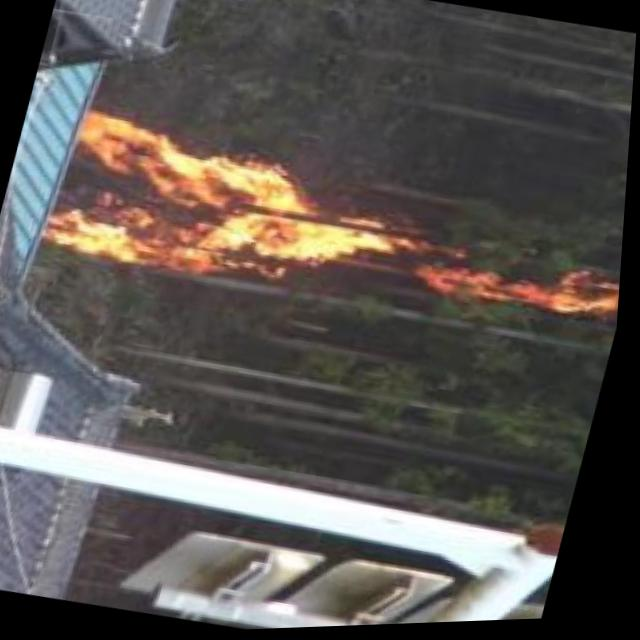Fire: (47, 88, 634, 363)
